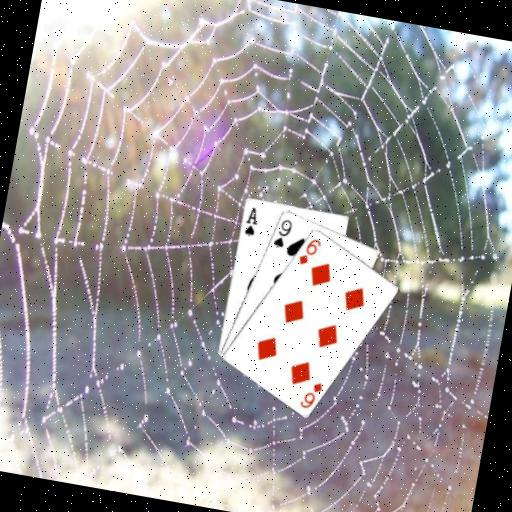6D: (294, 233, 323, 269), (296, 376, 325, 412)
9S: (269, 214, 294, 250)
AS: (240, 202, 261, 238)
